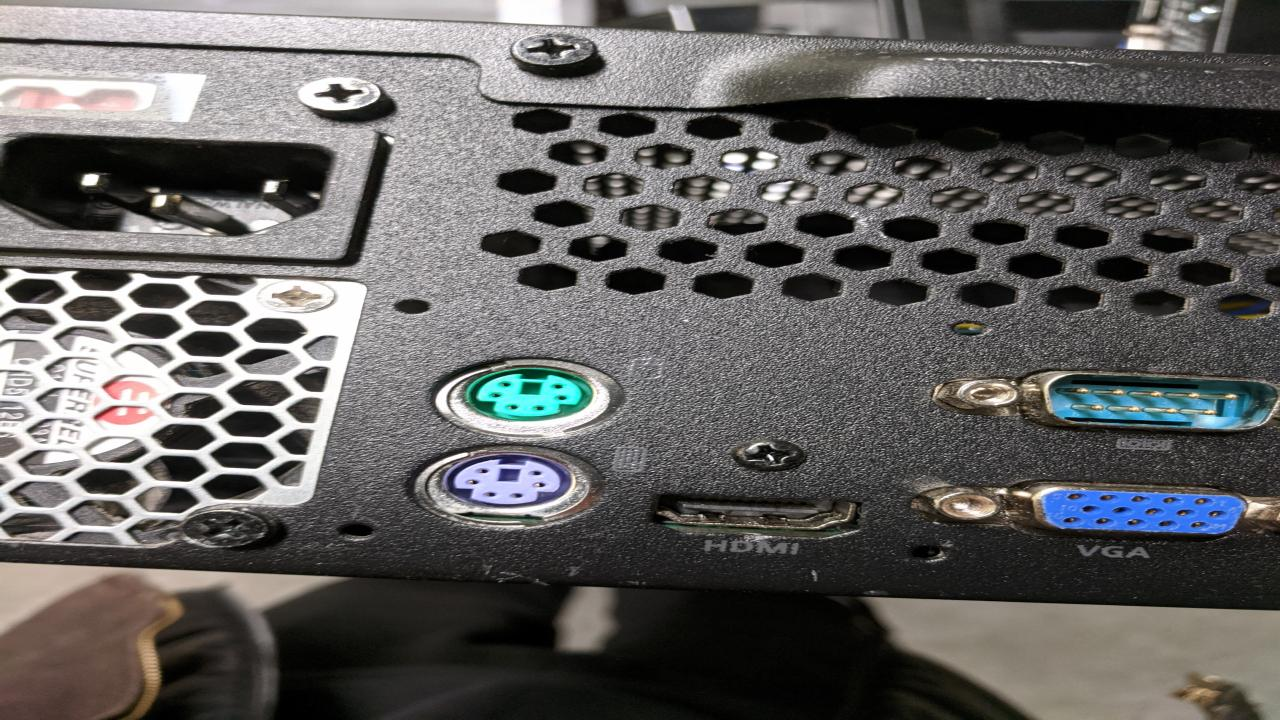CRS: (184, 511, 270, 549), (511, 33, 601, 68), (296, 76, 386, 110), (728, 437, 812, 472), (260, 280, 340, 315)
